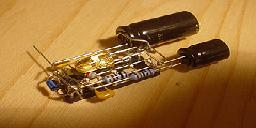Electrolytic-Capacitor: (52, 9, 234, 98)
